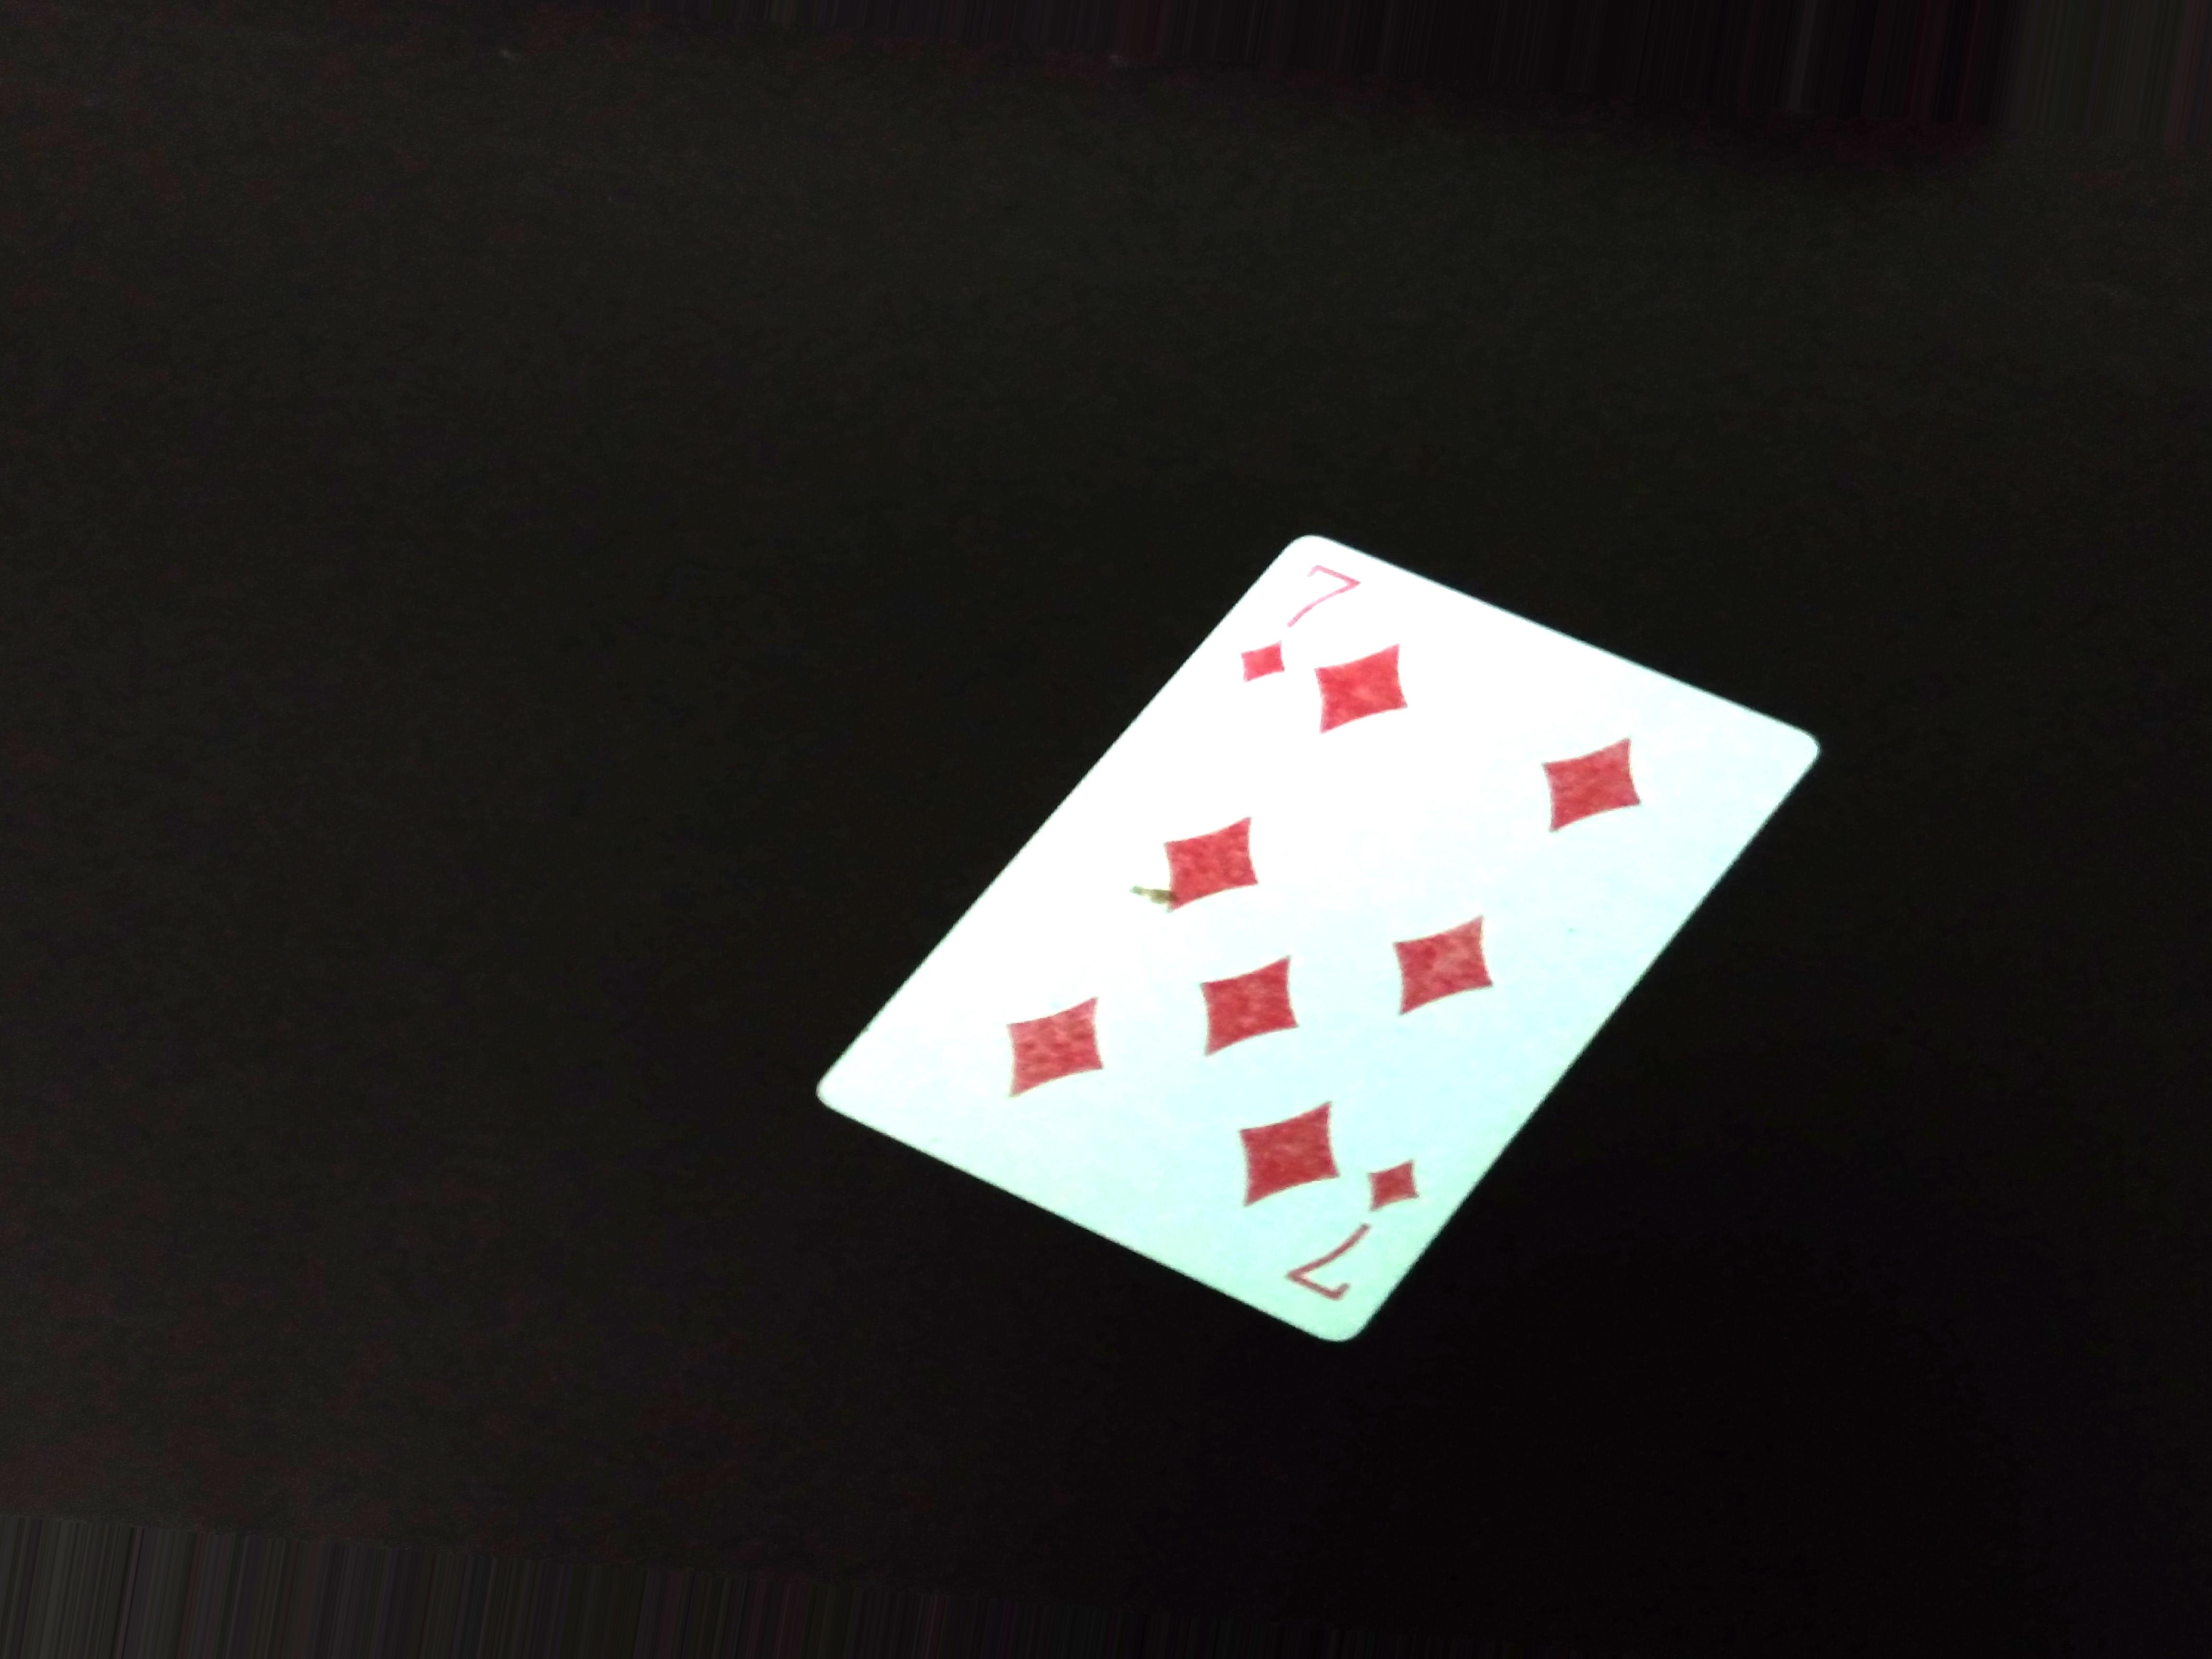7D: (1298, 1147, 1440, 1328)
